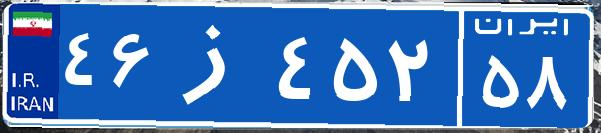2: (385, 28, 445, 110)
4: (273, 28, 330, 110), (57, 26, 110, 107)
5: (330, 28, 385, 110), (475, 38, 525, 113)
6: (110, 28, 158, 105)
8: (525, 38, 570, 115)
ز: (158, 15, 273, 115)
